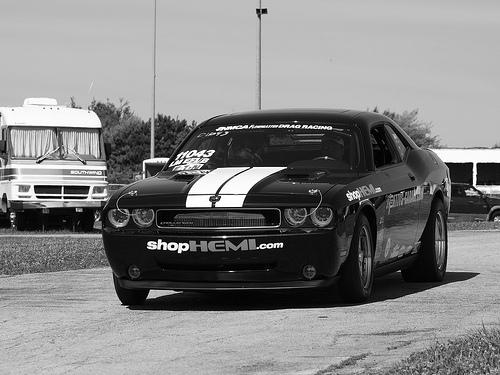car: (104, 111, 453, 309)
